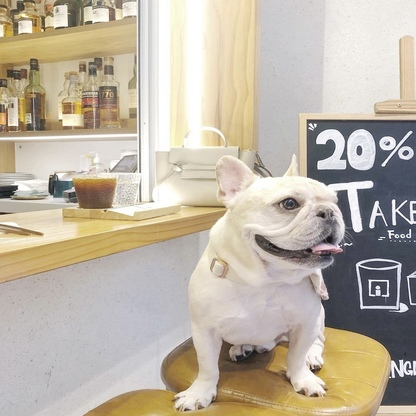bulldog: (166, 152, 349, 413)
